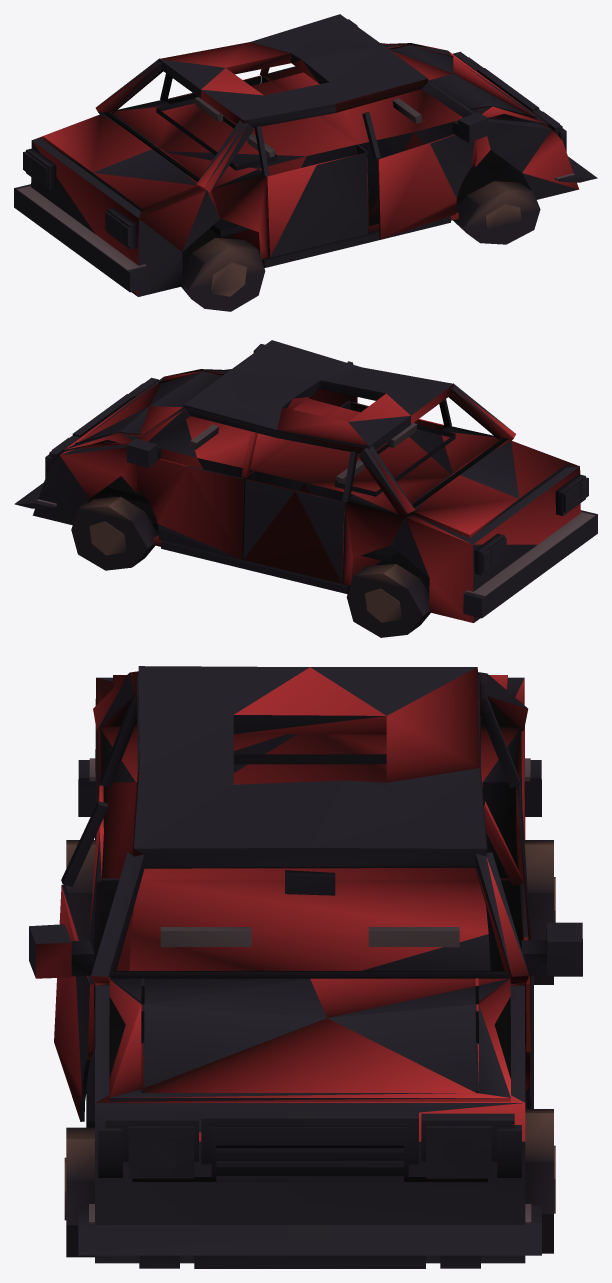
Rendered from model.burned.lod2.glb.
The picture shows the model from 3 angles, top to bottom: view 1: azimuth 30°, elevation 25°; view 2: azimuth 150°, elevation 25°; view 3: azimuth 270°, elevation 25°; orthographic projection. The views are drawn at different scales.
Visible parts, largest first — view 1: body_pal_uiDark, body_pal_survivorRed, wheelRL_pal_sidewalk, wheelFL_pal_sidewalk, body_pal_sidewalk; view 2: body_pal_survivorRed, body_pal_uiDark, wheelFR_pal_sidewalk, wheelRR_pal_sidewalk, body_pal_sidewalk; view 3: body_pal_uiDark, body_pal_survivorRed, body_pal_sidewalk, wheelFR_pal_sidewalk, wheelFL_pal_sidewalk, wheelRR_pal_sidewalk, wheelRL_pal_sidewalk.
Part boxes in pixels (bbox=[...]): body_pal_uiDark: bbox=[14, 14, 597, 296]; body_pal_survivorRed: bbox=[32, 42, 579, 296]; wheelRL_pal_sidewalk: bbox=[181, 238, 265, 311]; wheelFL_pal_sidewalk: bbox=[453, 181, 540, 244]; body_pal_sidewalk: bbox=[17, 97, 574, 270]; body_pal_survivorRed: bbox=[60, 371, 580, 622]; body_pal_uiDark: bbox=[14, 340, 597, 622]; wheelFR_pal_sidewalk: bbox=[71, 496, 158, 570]; wheelRR_pal_sidewalk: bbox=[346, 564, 430, 637]; body_pal_sidewalk: bbox=[37, 423, 594, 596]; body_pal_uiDark: bbox=[29, 666, 582, 1268]; body_pal_survivorRed: bbox=[36, 667, 530, 1141]; body_pal_sidewalk: bbox=[89, 758, 531, 1223]; wheelFR_pal_sidewalk: bbox=[525, 1109, 555, 1253]; wheelFL_pal_sidewalk: bbox=[64, 1127, 94, 1257]; wheelRR_pal_sidewalk: bbox=[524, 840, 555, 984]; wheelRL_pal_sidewalk: bbox=[66, 840, 95, 940].
Bounding box in the file's own units: 4.52 × 1.57 × 2.32.
